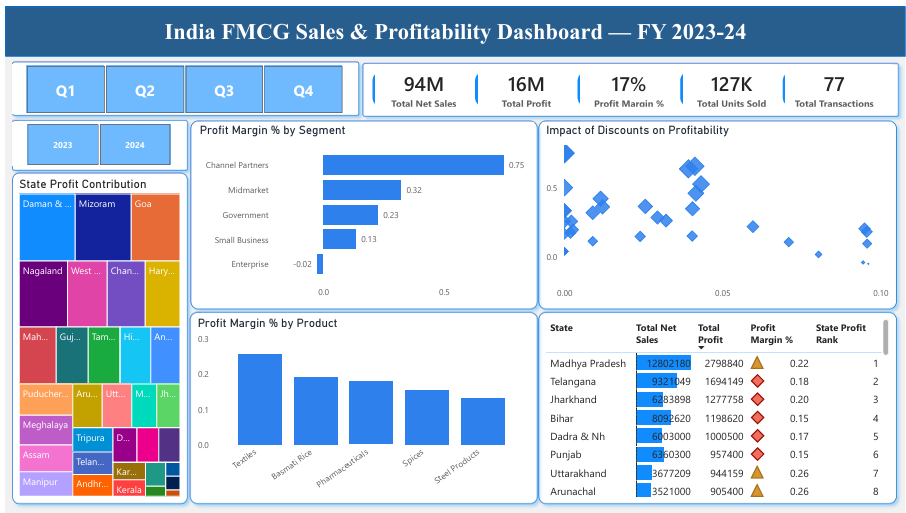

The dashboard page shown, as its layout file describes it:
{"tool":"powerbi","page":{"name":"Executive Summary ","canvas":[1280,720],"ordinal":0},"visuals":[{"type":"shape","box":[499,70.9,781.2,94.5],"z":0},{"type":"shape","box":[0,151.5,268.3,90.3],"z":1000},{"type":"shape","box":[0,226.6,268.3,489.3],"z":2000},{"type":"shape","box":[0,69.5,511.5,94.5],"z":3000},{"type":"shape","box":[749.2,425.3,528.2,290.5],"z":4000},{"type":"shape","box":[749.2,152.9,528.2,286.3],"z":5000},{"type":"shape","box":[254.4,152.9,511.5,286.3],"z":6000},{"type":"shape","title":"India FMCG Sales Dashboard — FY 2023-24","box":[0,0,1280.2,70],"z":7000},{"type":"textbox","box":[0,11.1,1280.2,58.4],"z":8000},{"type":"cardVisual","fields":{"Data":["FactSales.Total Net Sales","FactSales.Total Profit","FactSales.Profit Margin % D","FactSales.Total Units Sold","FactSales.Total Transactions"]},"box":[511.5,82,750.6,70.9],"z":9000},{"type":"slicer","fields":{"Values":["DateTable.Year"]},"box":[9.7,165.4,243.2,61.2],"z":10000},{"type":"slicer","fields":{"Values":["DateTable.Quarter"]},"box":[9,82,489,70.9],"z":11000},{"type":"tableEx","title":"dfv","fields":{"Values":["FactSales.State","FactSales.Total Net Sales","FactSales.Total Profit","FactSales.Profit Margin %","FactSales.State Profit Rank"]},"box":[764.5,439.2,497.6,261.3],"z":12000},{"type":"clusteredBarChart","fields":{"Category":["FactSales.Segment"],"Y":["FactSales.Profit Margin %"]},"box":[271,165.4,480.9,258.5],"z":13000},{"type":"shape","box":[253,425.3,512.9,290.5],"z":14000},{"type":"clusteredColumnChart","fields":{"Category":["FactSales.Product"],"Y":["FactSales.Profit Margin %"]},"box":[268.3,439.2,480.9,261.3],"z":15000},{"type":"treemap","title":"State Profit Contribution","fields":{"Values":["FactSales.Profit Margin %"],"Group":["FactSales.State"]},"box":[13.9,241.9,239.1,458.7],"z":16000},{"type":"scatterChart","title":"Impact of Discounts on Profitability","fields":{"X":["FactSales.Discount Rate %"],"Y":["FactSales.Profit Margin %"],"Category":["FactSales.State"],"Size":["FactSales.Profit Margin %"]},"box":[764.5,165.4,497.6,259.9],"z":17000}]}

Visuals, with their boxes in screenshot pixels (x1, y1, x2, y2), scaled from the page's 1280x720 canvas onto the 906x513 screenshot:
shape: {"x1": 353, "y1": 51, "x2": 905, "y2": 118}
shape: {"x1": 0, "y1": 108, "x2": 190, "y2": 172}
shape: {"x1": 0, "y1": 161, "x2": 190, "y2": 510}
shape: {"x1": 0, "y1": 50, "x2": 362, "y2": 117}
shape: {"x1": 530, "y1": 303, "x2": 904, "y2": 510}
shape: {"x1": 530, "y1": 109, "x2": 904, "y2": 313}
shape: {"x1": 180, "y1": 109, "x2": 542, "y2": 313}
"India FMCG Sales Dashboard — FY 2023-24" shape: {"x1": 0, "y1": 0, "x2": 905, "y2": 50}
textbox: {"x1": 0, "y1": 8, "x2": 905, "y2": 50}
cardVisual - FactSales.Total Net Sales x FactSales.Total Profit: {"x1": 362, "y1": 58, "x2": 893, "y2": 109}
slicer - DateTable.Year: {"x1": 7, "y1": 118, "x2": 179, "y2": 161}
slicer - DateTable.Quarter: {"x1": 6, "y1": 58, "x2": 352, "y2": 109}
"dfv" tableEx: {"x1": 541, "y1": 313, "x2": 893, "y2": 499}
clusteredBarChart - FactSales.Segment x FactSales.Profit Margin %: {"x1": 192, "y1": 118, "x2": 532, "y2": 302}
shape: {"x1": 179, "y1": 303, "x2": 542, "y2": 510}
clusteredColumnChart - FactSales.Product x FactSales.Profit Margin %: {"x1": 190, "y1": 313, "x2": 530, "y2": 499}
"State Profit Contribution" treemap: {"x1": 10, "y1": 172, "x2": 179, "y2": 499}
"Impact of Discounts on Profitability" scatterChart: {"x1": 541, "y1": 118, "x2": 893, "y2": 303}
